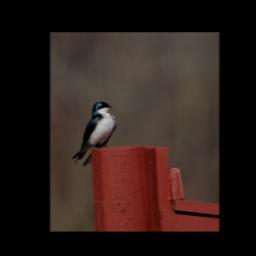Swallow: (72, 100, 117, 165)
